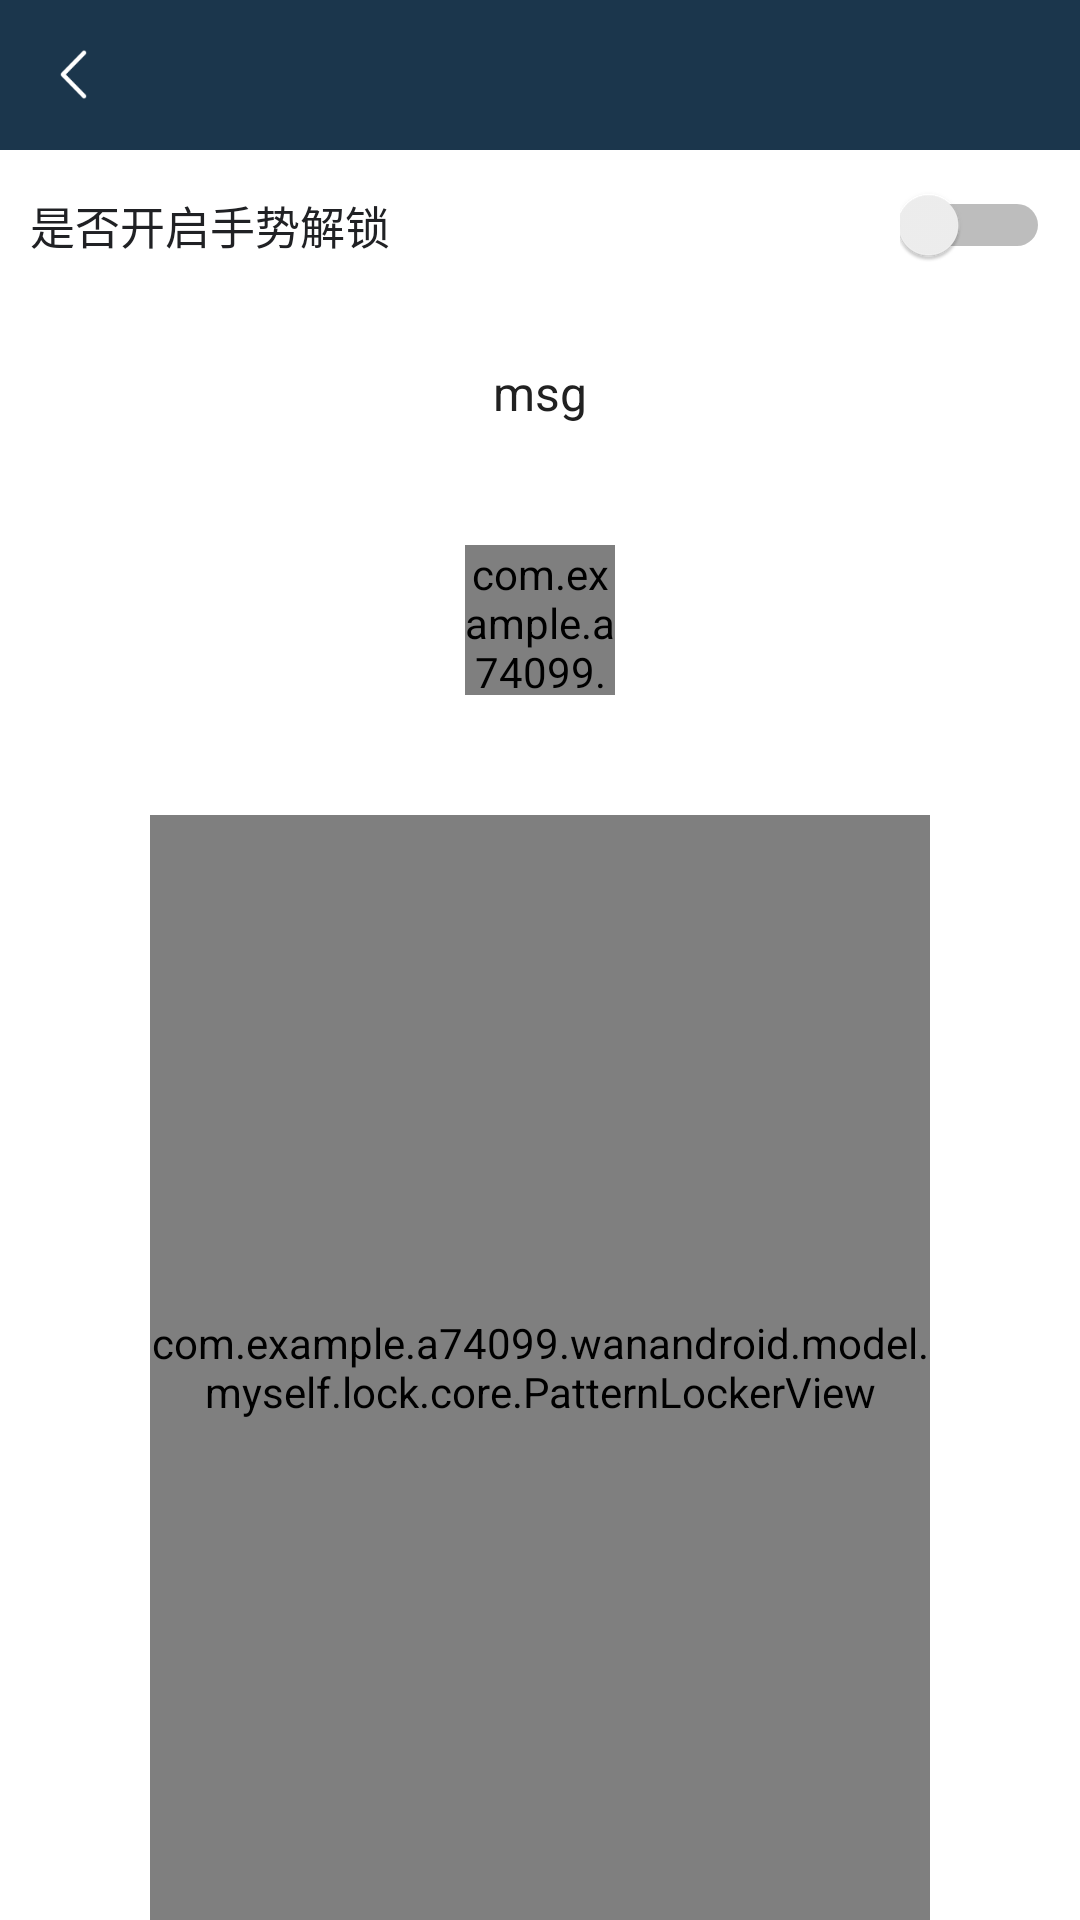

Icons on this 1080*1920 Android screen, each with the point to tap as (x,y):
left arrow: (73,74)
